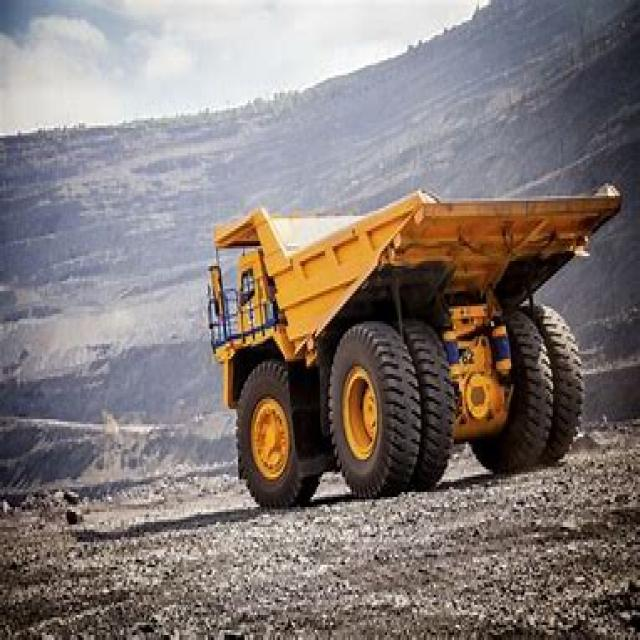dump_truck: (201, 158, 618, 497)
